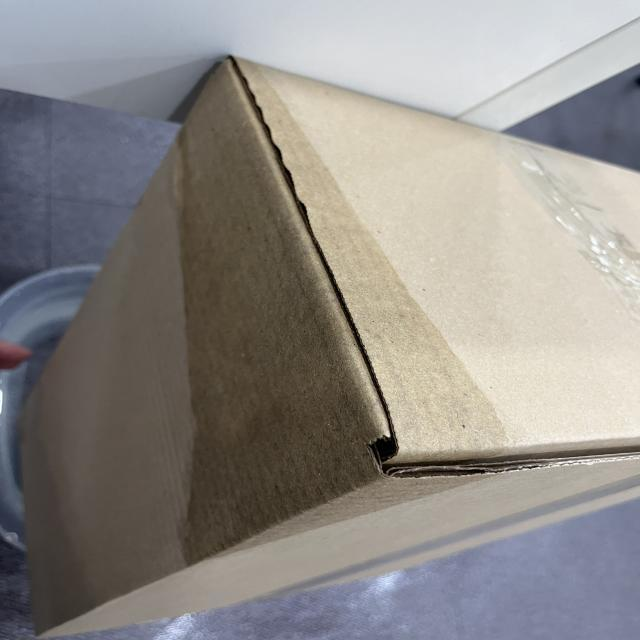wet: (148, 59, 518, 559)
